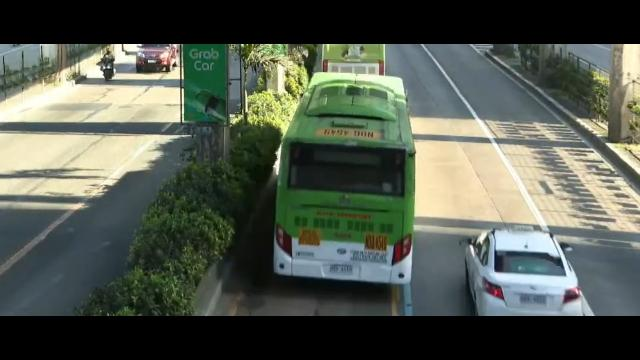bus: (272, 71, 417, 287), (315, 44, 391, 83)
car: (459, 228, 579, 315), (135, 44, 178, 74)
motorcycle: (99, 49, 118, 83)
